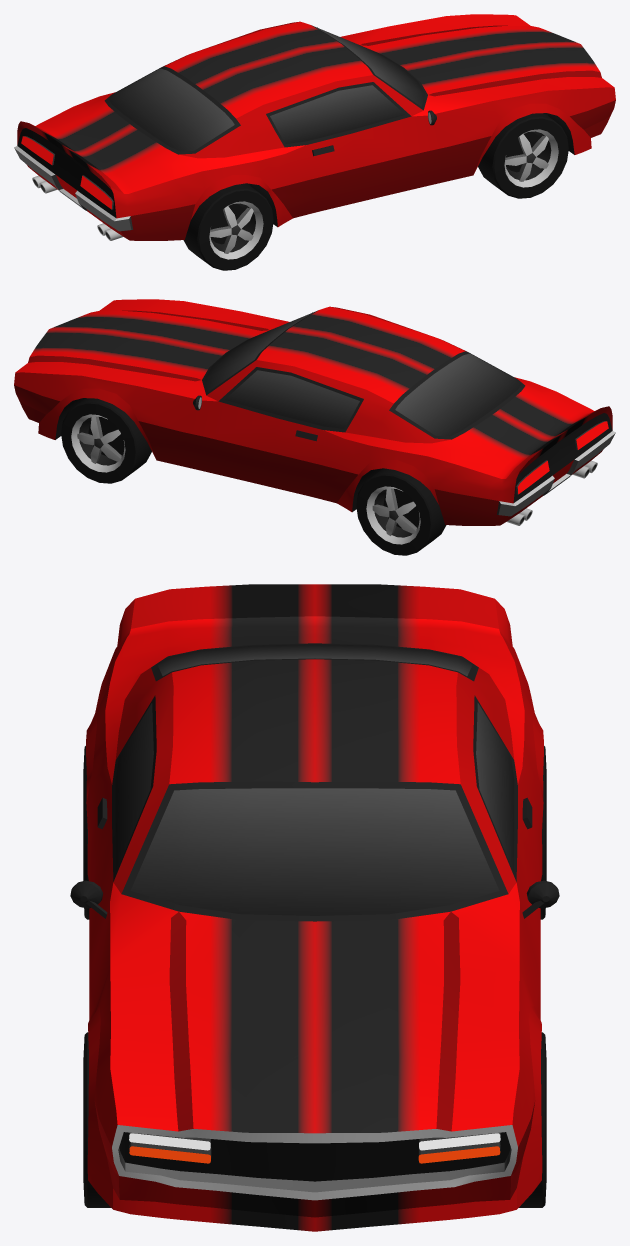
Rendered from Car_164.glb.
The picture shows the model from 3 angles, top to bottom: view 1: azimuth 30°, elevation 25°; view 2: azimuth 150°, elevation 25°; view 3: azimuth 270°, elevation 25°; orthographic projection. The views are drawn at different scales.
Parts seen in each view (by area): view 1: Car_164, wheel_3_Car_164_Wheel_2R, wheel_1_Car_164_Wheel_1R; view 2: Car_164, wheel_2_Car_164_Wheel_2L, wheel_0_Car_164_Wheel_1L; view 3: Car_164, wheel_0_Car_164_Wheel_1L, wheel_1_Car_164_Wheel_1R.
Boxes of the visible parts, x1,y1,x2,y2 form: Car_164: [14, 14, 615, 240]; wheel_3_Car_164_Wheel_2R: [183, 183, 273, 270]; wheel_1_Car_164_Wheel_1R: [478, 113, 568, 198]; Car_164: [14, 299, 615, 525]; wheel_2_Car_164_Wheel_2L: [356, 468, 446, 555]; wheel_0_Car_164_Wheel_1L: [61, 398, 151, 483]; Car_164: [70, 584, 559, 1231]; wheel_0_Car_164_Wheel_1L: [519, 1032, 546, 1207]; wheel_1_Car_164_Wheel_1R: [83, 1032, 110, 1207].
Bounding box in the file's own units: 4.83 × 1.32 × 1.98.
Materials: 2 (2 with a texture image).
